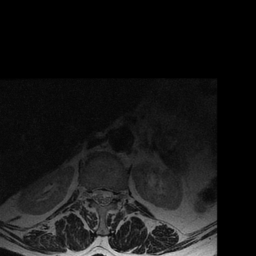CCS_normal: (99, 181, 106, 212)
LFS_normal: (113, 185, 120, 206)
LLS_normal: (106, 182, 113, 208)
RFS_normal: (85, 184, 92, 204)
RLS_normal: (92, 182, 99, 206)
